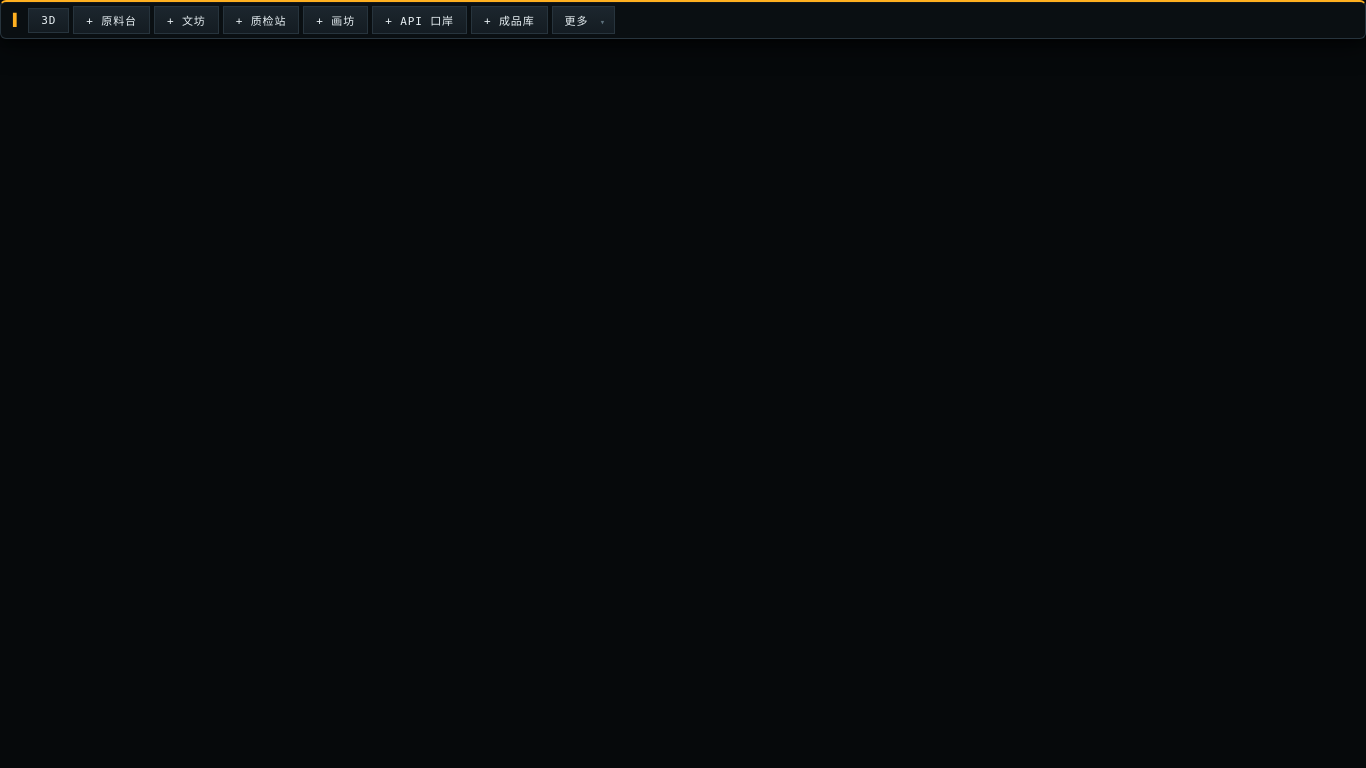
it: CanvasToolbar › 更多面板 › 面板显示节点分类分组
Click the button "更多 ▾".
click(583, 20)  # box [552,6,615,34]
(page scrolled)
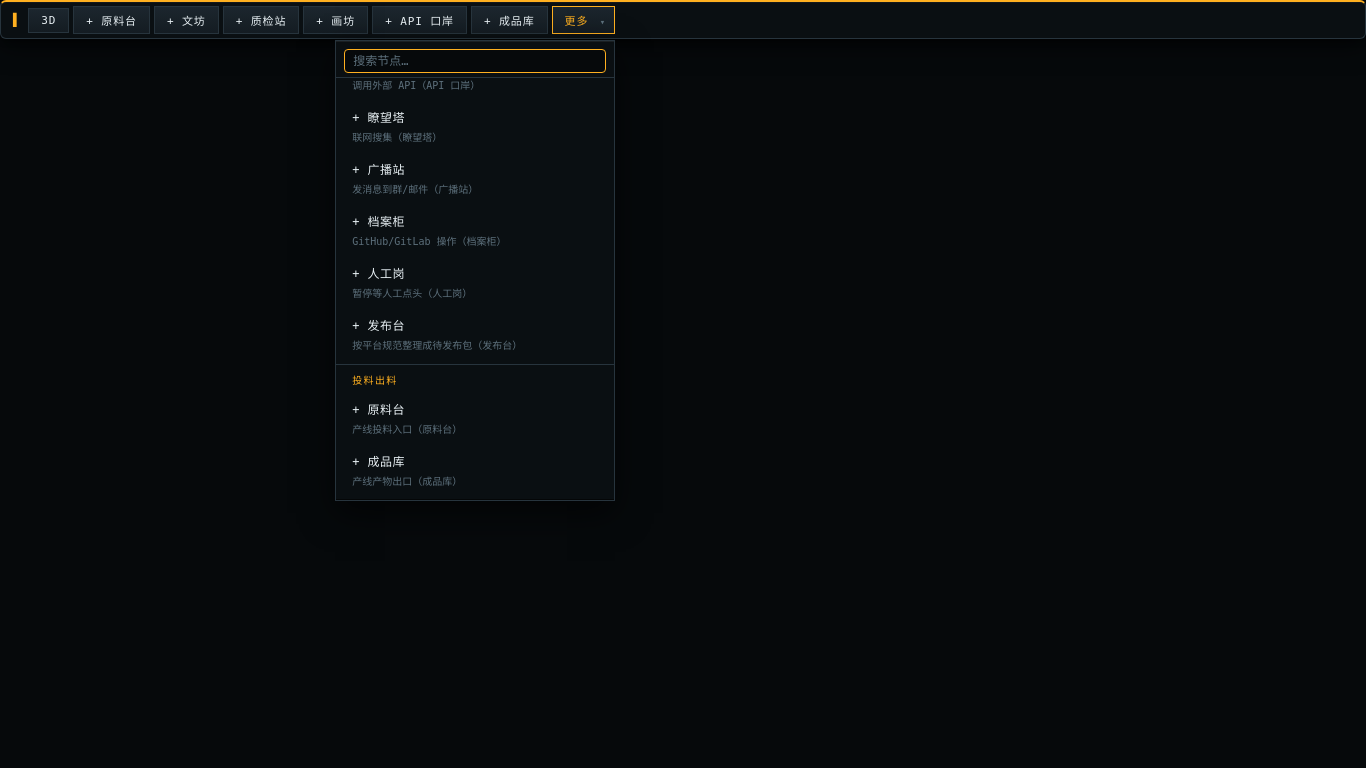
expect the text "投料出料" is shown: met, box [352,375,398,386]
